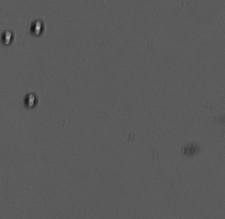Living Cell: (23, 92, 39, 109), (29, 19, 44, 36), (1, 29, 14, 47)
